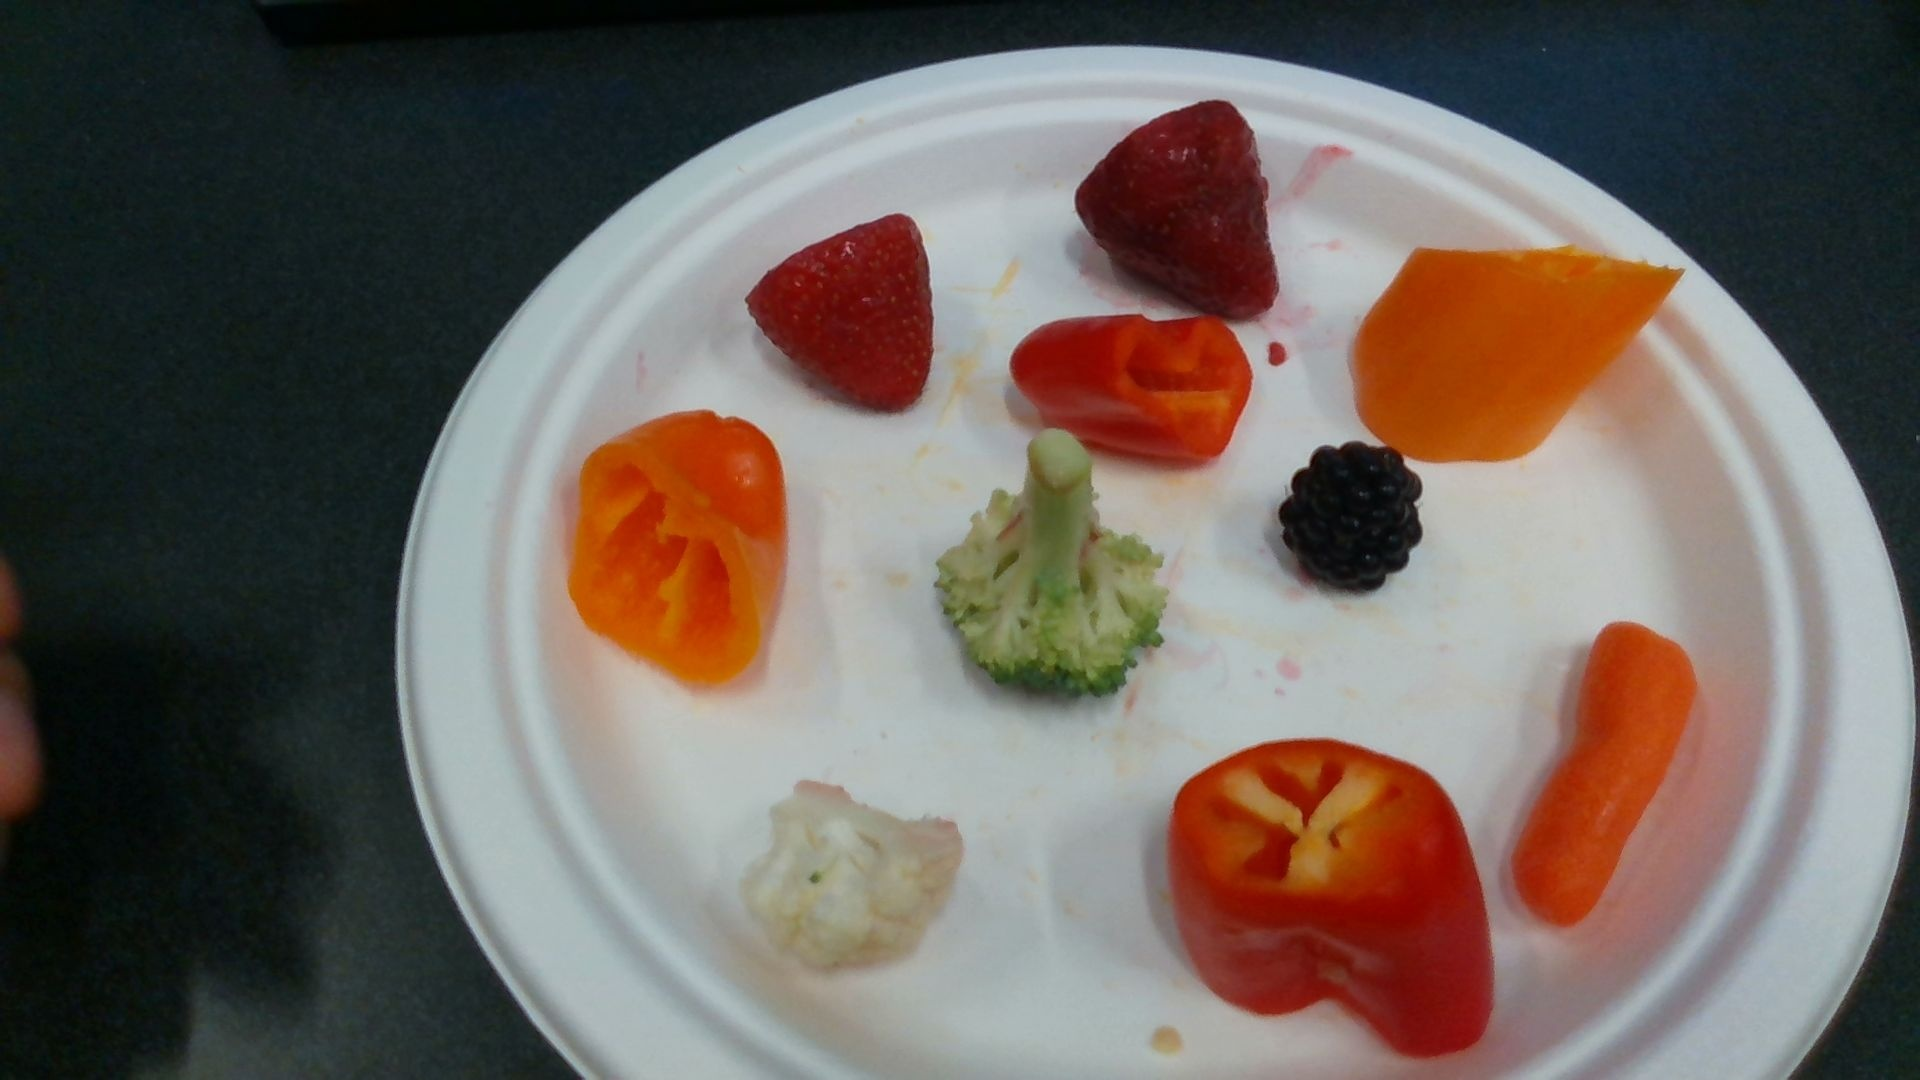bell_pepper: (1170, 738, 1497, 1055), (1352, 248, 1680, 463), (574, 410, 787, 688), (1010, 313, 1249, 463)
blackberry: (1282, 448, 1424, 591)
broccoli: (940, 431, 1162, 702)
carrot: (1514, 622, 1697, 923)
cauliflower: (745, 781, 965, 976)
strawberry: (1075, 102, 1279, 315), (746, 215, 934, 411)
